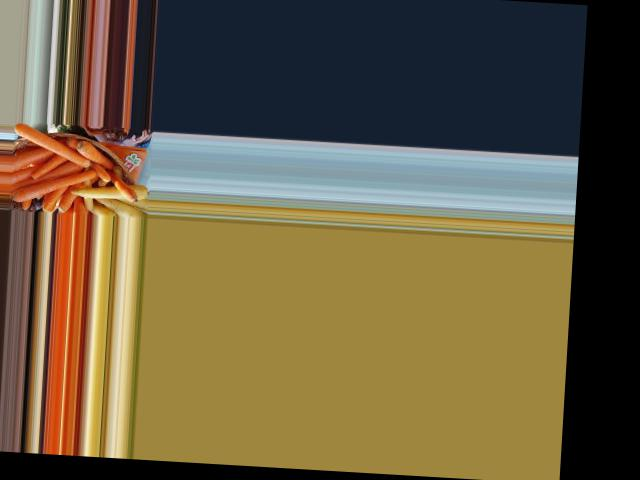carrot: (77, 137, 122, 169)
